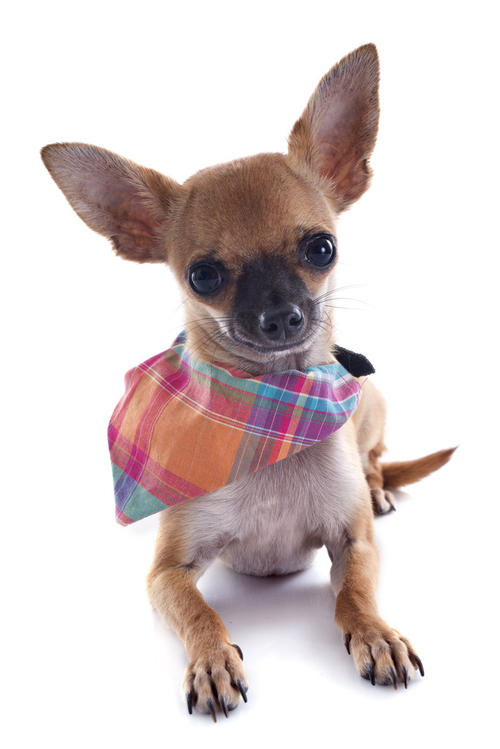dog: (42, 87, 402, 449)
